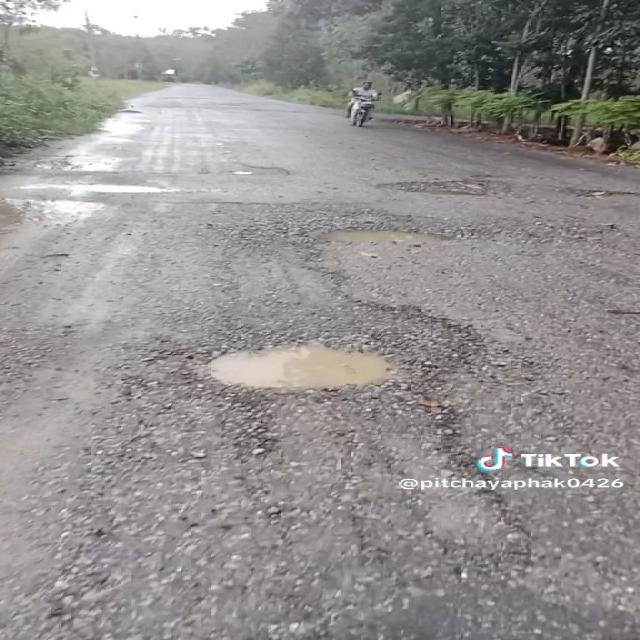Poth-hole: (274, 201, 470, 290)
